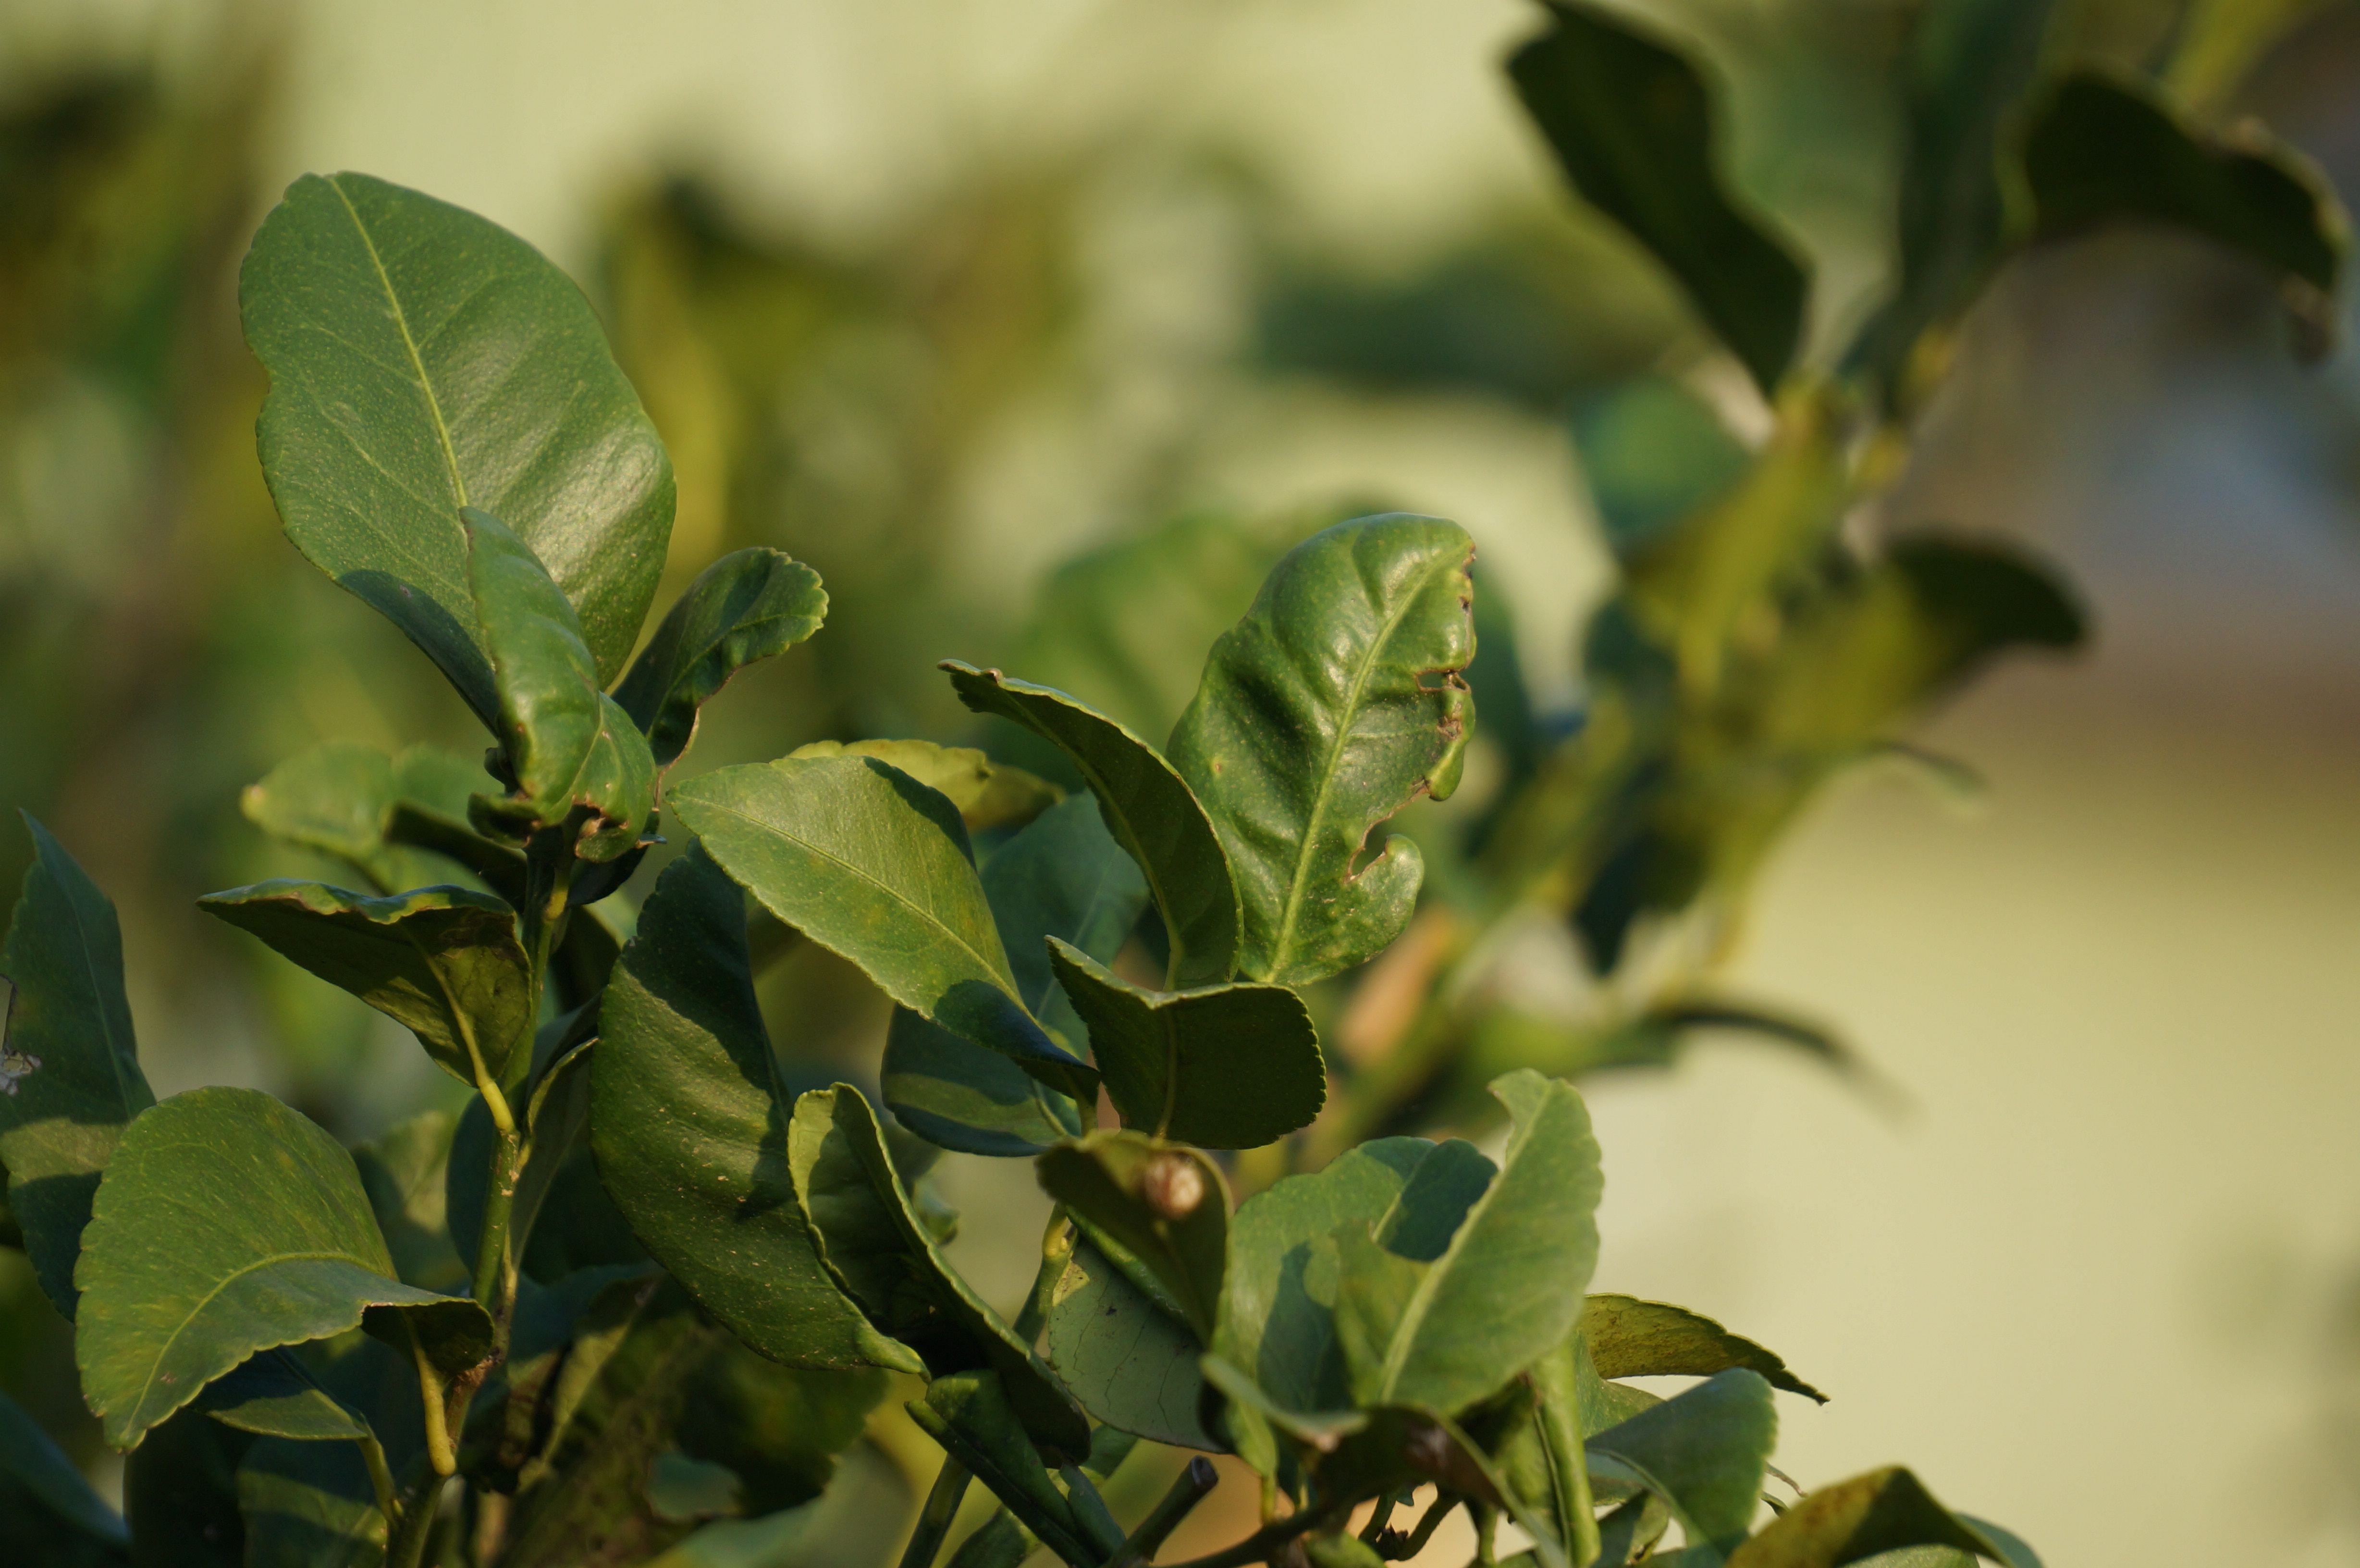damage: (1333, 514, 1505, 982)
